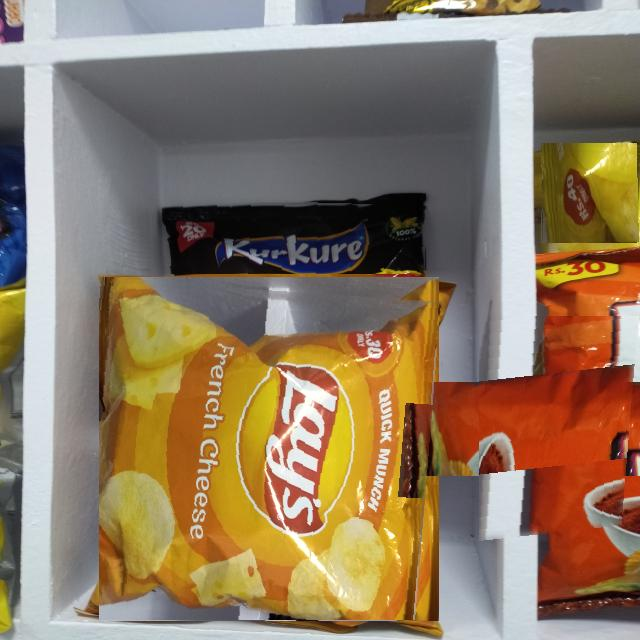Plastic: (99, 279, 441, 620), (479, 316, 640, 543), (166, 198, 427, 274), (540, 144, 639, 242)
